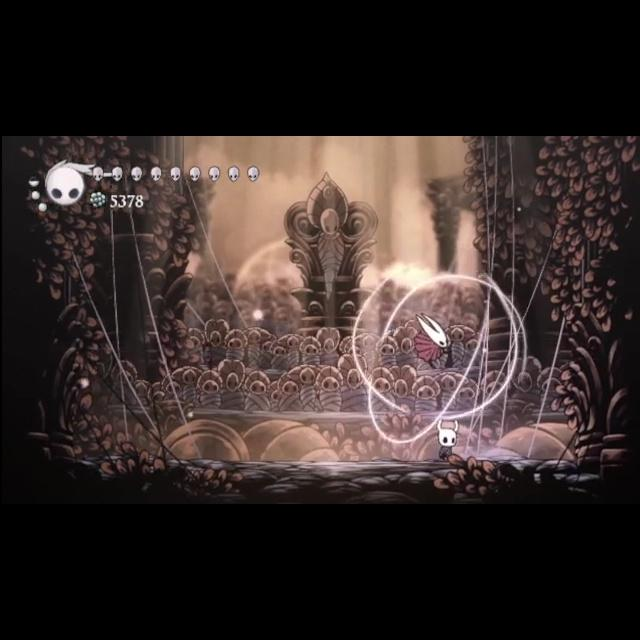EnemyAirAttack: (406, 311, 466, 375)
Player: (432, 417, 463, 465)
